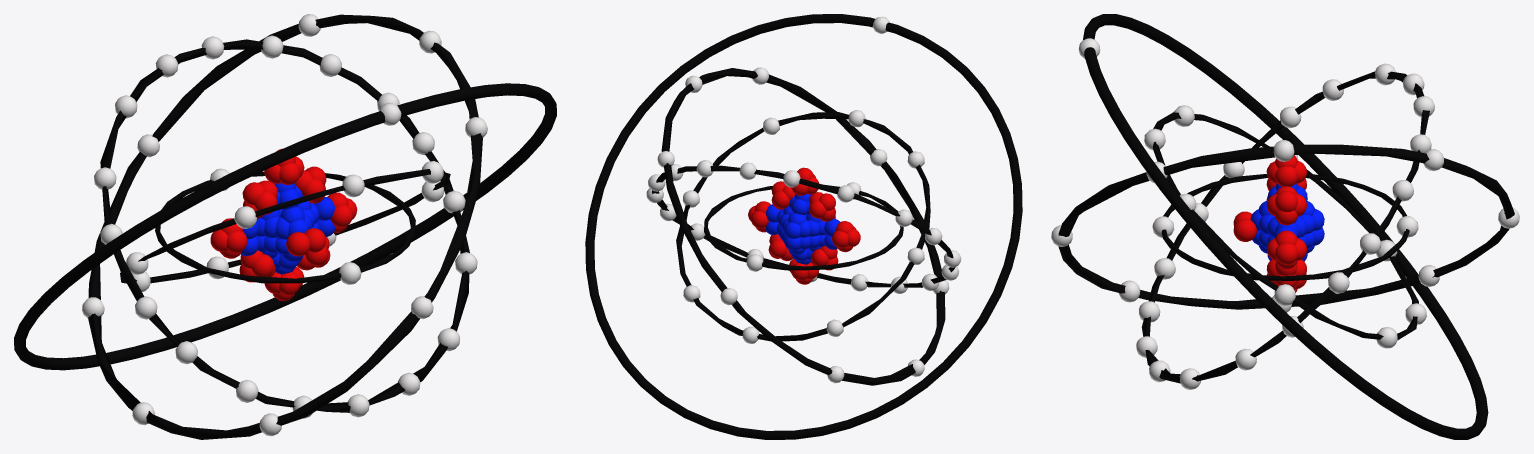
File: 42 Molibdeno.fbx
3 views of the same model, side by side, from view 1: azimuth 30°, elevation 25°; view 2: azimuth 150°, elevation 25°; view 3: azimuth 270°, elevation 25° (orthographic). The views are drawn at different scales.
Visible parts, largest first — view 1: Orbita.005, Orbita.004, Sphere.010, Orbita.003, Orbita.002, Orbita.001; view 2: Orbita.005, Sphere.010, Orbita.004, Orbita.002, Orbita.003, Orbita.001; view 3: Orbita.005, Orbita.004, Sphere.010, Orbita.003, Orbita.002, Orbita.001.
Part boxes in pixels (left/top/right/bottom): Orbita.005: left=14, top=83, right=556, bottom=370; Orbita.004: left=88, top=14, right=482, bottom=439; Sphere.010: left=210, top=148, right=357, bottom=301; Orbita.003: left=100, top=39, right=469, bottom=412; Orbita.002: left=120, top=169, right=450, bottom=283; Orbita.001: left=155, top=171, right=415, bottom=283; Orbita.005: left=585, top=14, right=1022, bottom=439; Sphere.010: left=748, top=167, right=860, bottom=284; Orbita.004: left=661, top=68, right=945, bottom=385; Orbita.002: left=676, top=112, right=930, bottom=341; Orbita.003: left=652, top=165, right=955, bottom=287; Orbita.001: left=704, top=184, right=903, bottom=270; Orbita.005: left=1083, top=14, right=1488, bottom=439; Orbita.004: left=1058, top=144, right=1514, bottom=309; Sphere.010: left=1233, top=155, right=1324, bottom=292; Orbita.003: left=1141, top=71, right=1429, bottom=383; Orbita.002: left=1153, top=112, right=1418, bottom=339; Orbita.001: left=1161, top=173, right=1409, bottom=280.
Size of the model in its own units: 14.54 by 17.56 by 12.78.
